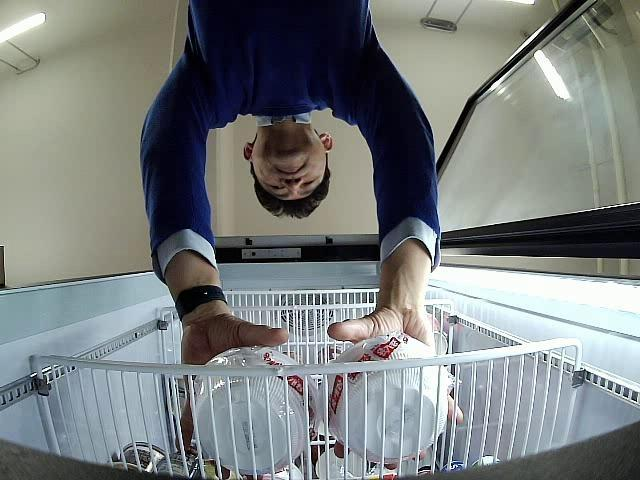09_yukGaeJang: (320, 334, 449, 463), (196, 347, 320, 475)
